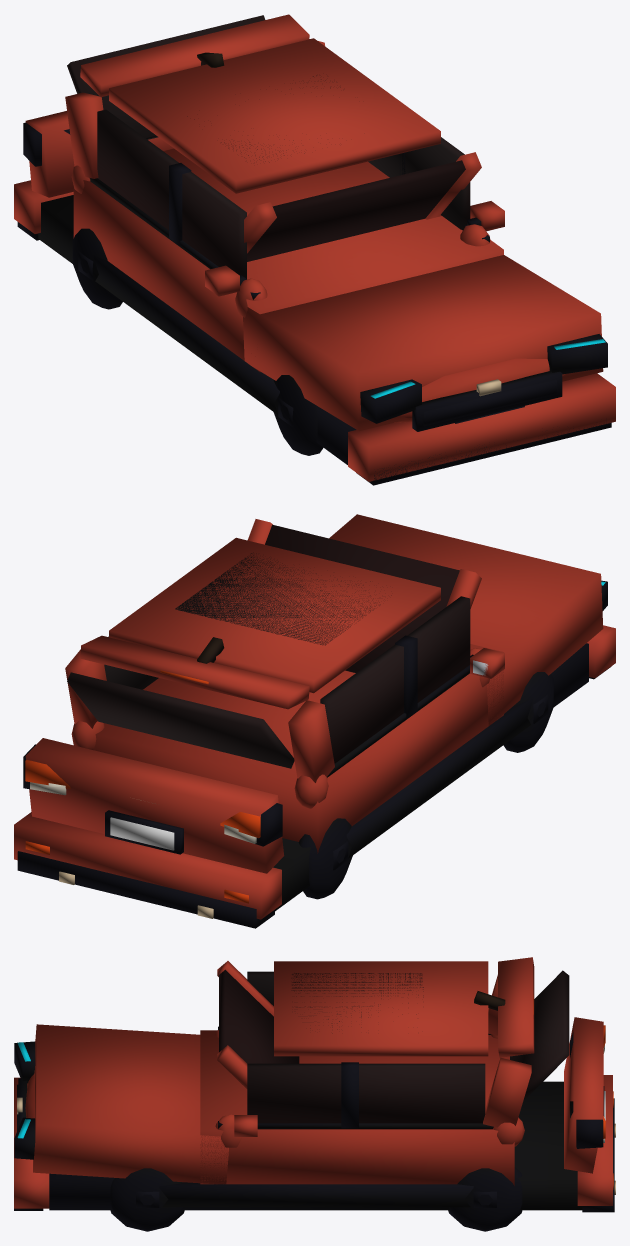
Rendered from city_car.glb.
The picture shows the model from 3 angles, top to bottom: view 1: azimuth 30°, elevation 25°; view 2: azimuth 150°, elevation 25°; view 3: azimuth 270°, elevation 25°; orthographic projection. The views are drawn at different scales.
Parts seen in each view (by area): view 1: city_car; view 2: city_car; view 3: city_car.
Part boxes in pixels (box(x1,y1,x2,y2)): city_car: box(14, 14, 615, 485); city_car: box(14, 514, 615, 928); city_car: box(14, 957, 615, 1231).
Bounding box in the file's own units: 1.9 × 1.45 × 4.1.
